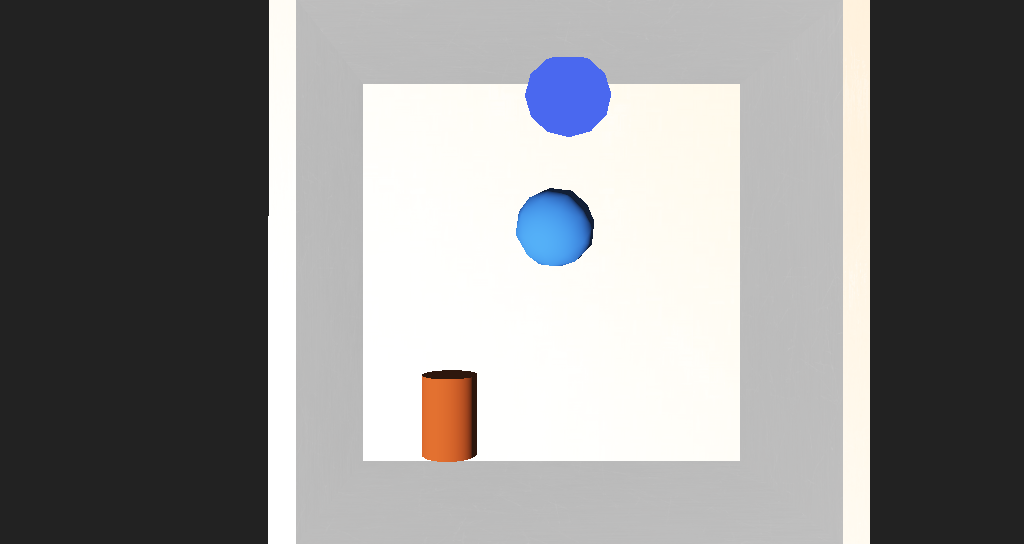cone: (401, 324, 448, 372)
cylinder: (488, 148, 549, 205)
sphere: (472, 220, 539, 267)
